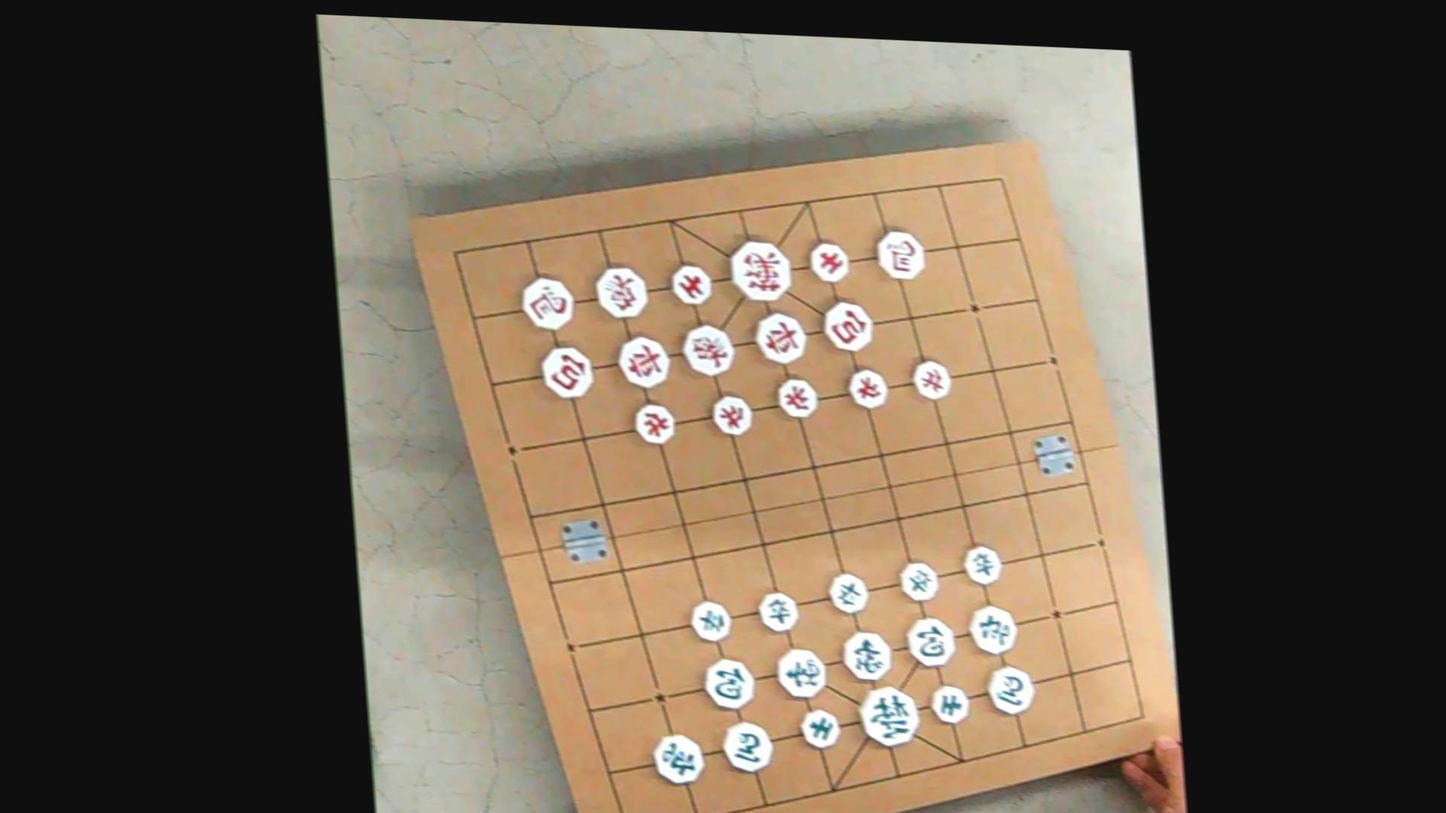cha_green: (652, 734, 706, 784), (967, 606, 1018, 653)
cha_red: (616, 335, 671, 388), (753, 312, 807, 363)
jol_green: (690, 601, 732, 641), (758, 592, 799, 632), (828, 574, 869, 613), (898, 562, 940, 600), (962, 546, 1003, 584)
jol_red: (710, 394, 753, 436), (775, 377, 819, 418), (633, 403, 676, 443), (911, 360, 952, 400), (847, 370, 889, 409)
ma_green: (984, 663, 1037, 714), (721, 723, 773, 771)
ma_red: (520, 278, 575, 330), (874, 230, 926, 280)
po_green: (702, 659, 755, 709), (905, 617, 956, 667)
po_red: (540, 346, 594, 398), (822, 301, 873, 351)
sa_green: (798, 707, 842, 748), (928, 684, 972, 723)
sa_red: (808, 242, 850, 283), (670, 264, 712, 305)
sang_green: (775, 648, 828, 699), (841, 632, 893, 681)
sang_red: (593, 264, 649, 319), (681, 324, 735, 375)
wang_green: (857, 686, 920, 746)
wang_red: (728, 239, 793, 302)
